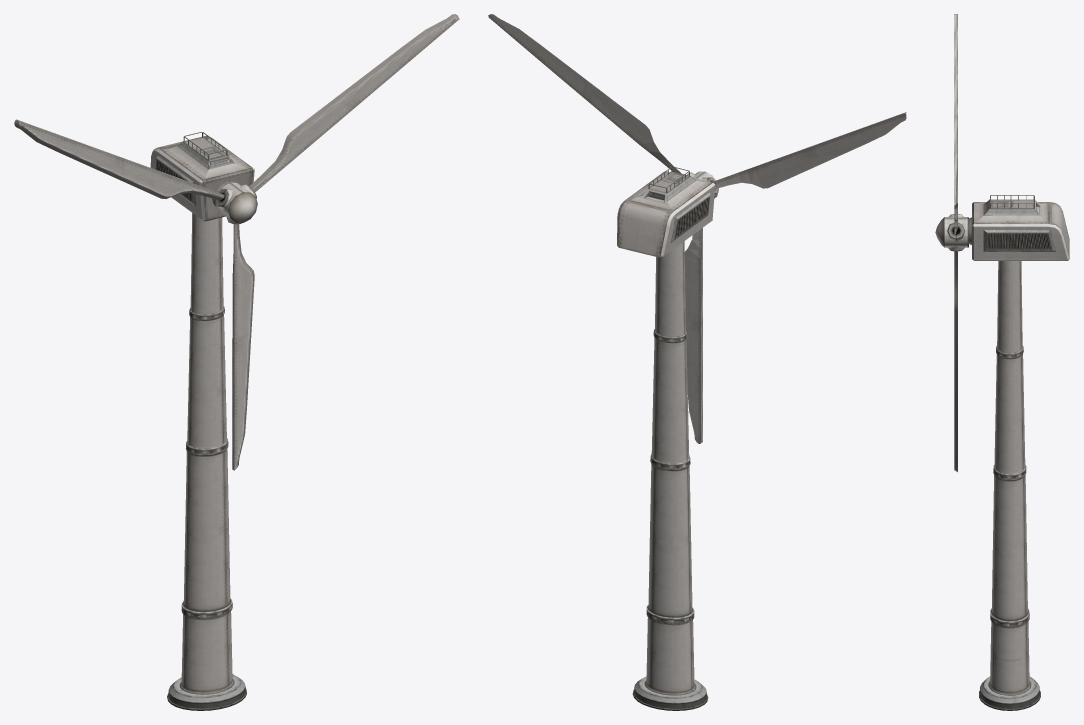
File: windturbine.obj
The picture shows the model from 3 angles, left to right: view 1: azimuth 30°, elevation 25°; view 2: azimuth 150°, elevation 25°; view 3: azimuth 270°, elevation 25°; orthographic projection. The views are drawn at different scales.
Parts seen in each view (by area): view 1: Turbine_Main, Turbine_Fan; view 2: Turbine_Main, Turbine_Fan; view 3: Turbine_Main, Turbine_Fan.
Part boxes in pixels (x1,y1,x2,y2): Turbine_Main: (150,132,254,710); Turbine_Fan: (14,14,459,470); Turbine_Main: (617,166,715,710); Turbine_Fan: (488,14,906,443); Turbine_Main: (969,195,1069,710); Turbine_Fan: (935,14,968,472).
Size of the model in its own units: 108 by 152 by 31.57.
2 materials, 2 textured.
